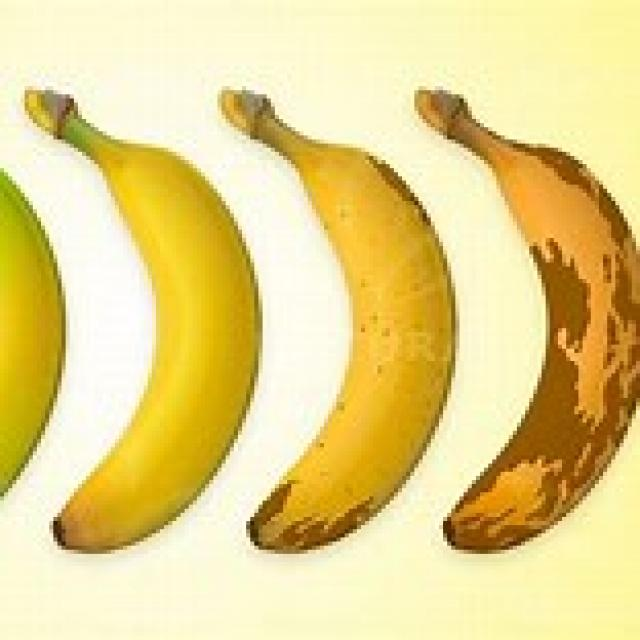Banana: (32, 84, 264, 557), (224, 84, 452, 555), (424, 86, 640, 554)
